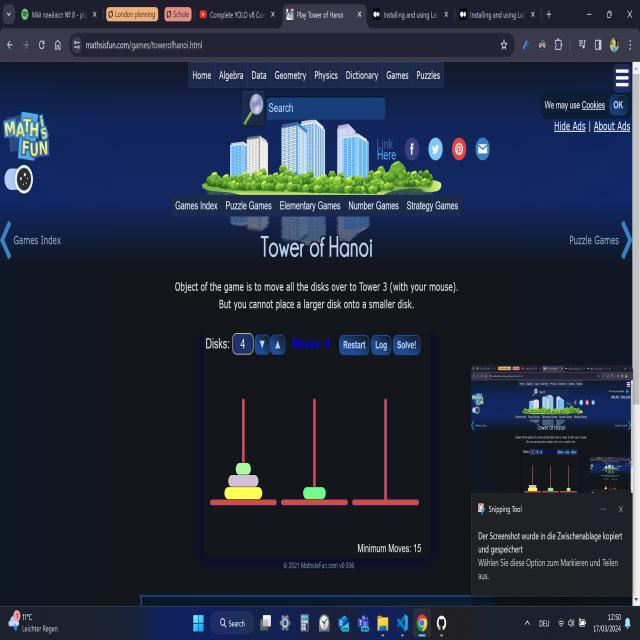disk1: (236, 462, 250, 474)
disk2: (303, 487, 326, 500)
disk3: (228, 476, 258, 488)
disk4: (224, 487, 262, 500)
